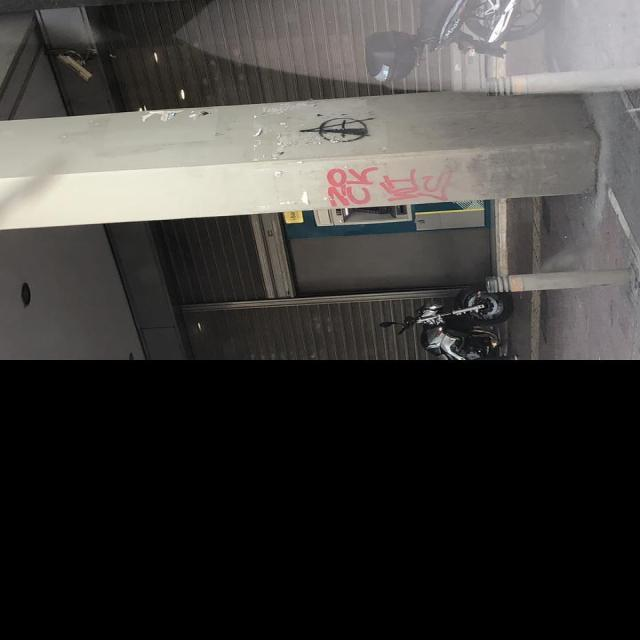nonspitting: (327, 164, 452, 206), (298, 116, 376, 144)
